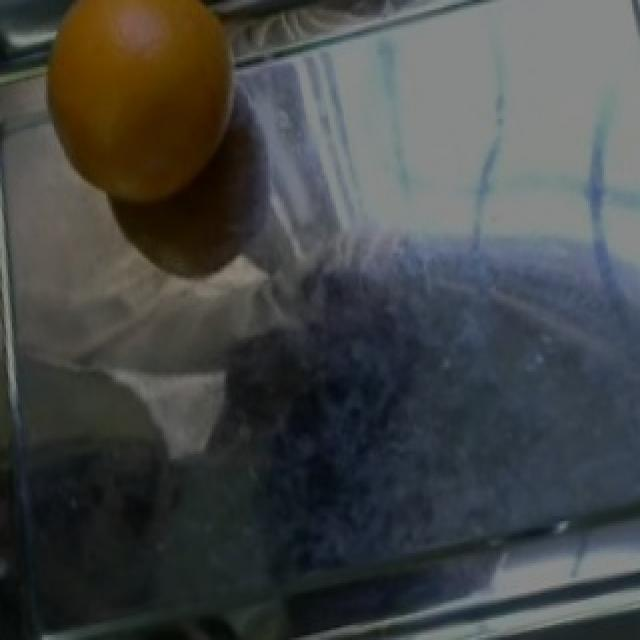Fruit: (16, 0, 268, 226)
